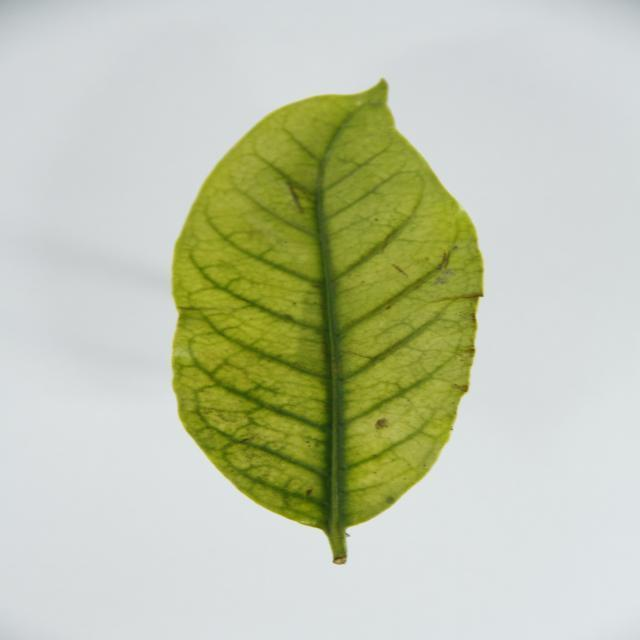DeficienciaNutricional-Manganeso: (172, 81, 484, 564)
